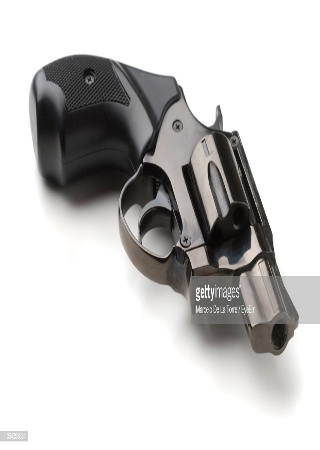handgun: (23, 50, 303, 361)
